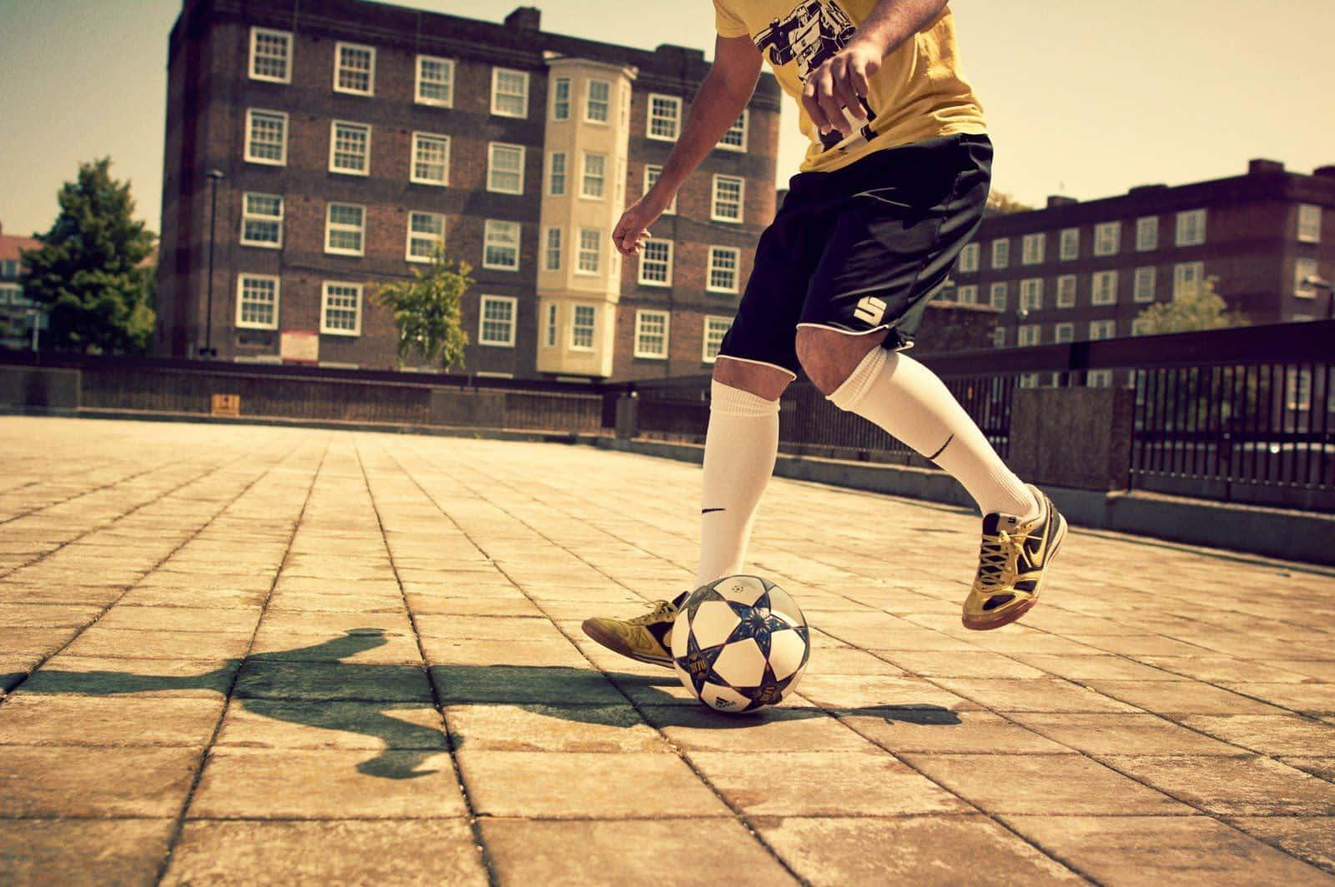ballon_football: (671, 574, 811, 717)
